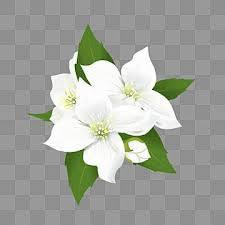jasmine: (18, 35, 203, 194)
